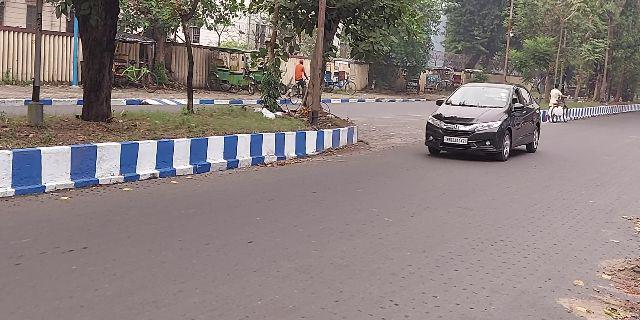Car: (420, 84, 544, 162)
